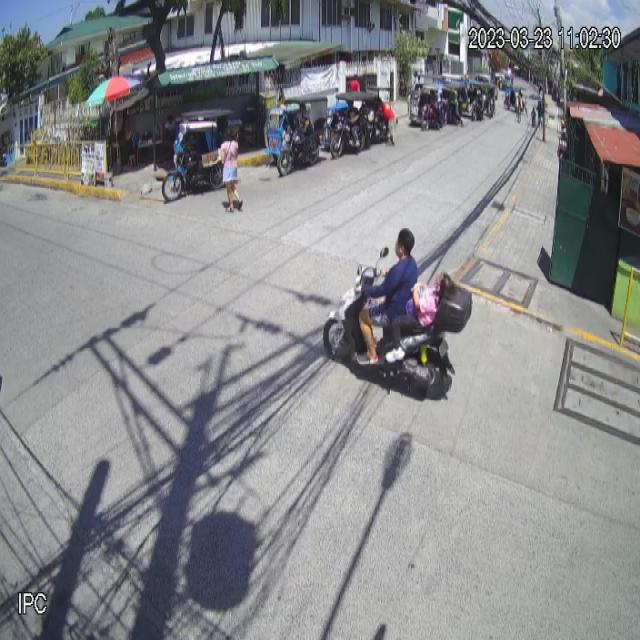Motorcycle: (322, 246, 474, 401)
